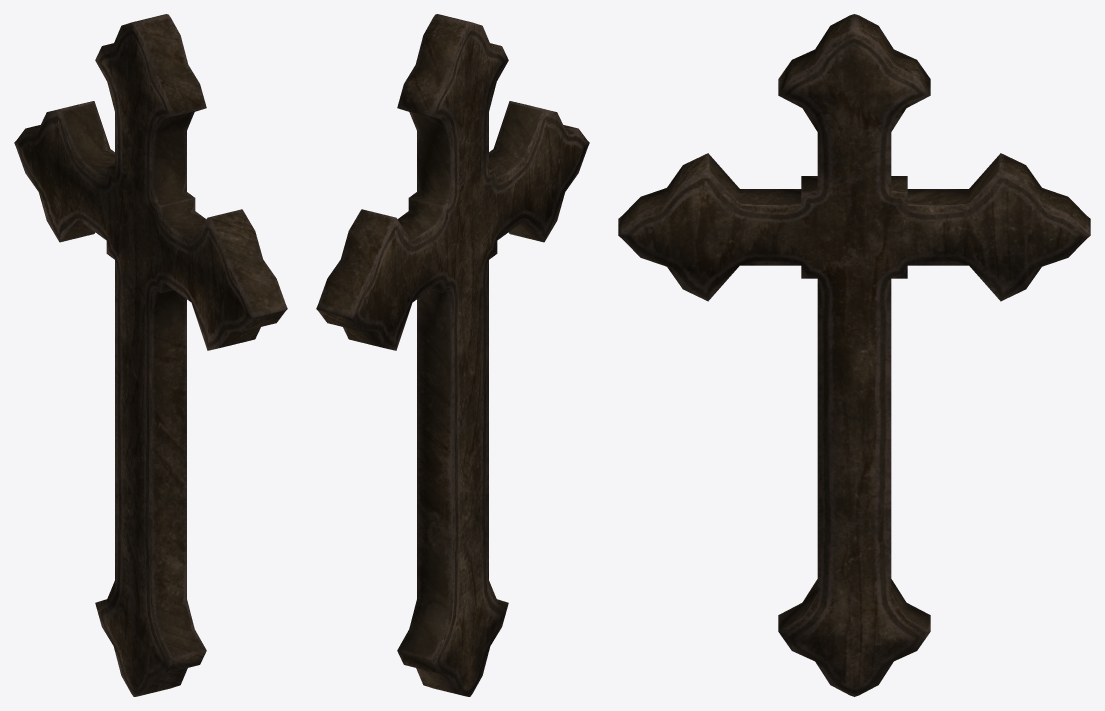
File: Cross.fbx
The picture shows the model from 3 angles, left to right: view 1: azimuth 30°, elevation 25°; view 2: azimuth 150°, elevation 25°; view 3: azimuth 270°, elevation 25°; orthographic projection.
Parts seen in each view (by area): view 1: Cross; view 2: Cross; view 3: Cross.
Boxes of the visible parts, x1,y1,x2,y2 form: Cross: (14,14,287,696); Cross: (316,14,589,696); Cross: (618,14,1090,696).
Size of the model in its own units: 24.13 by 446 by 287.
1 material, 1 textured.
